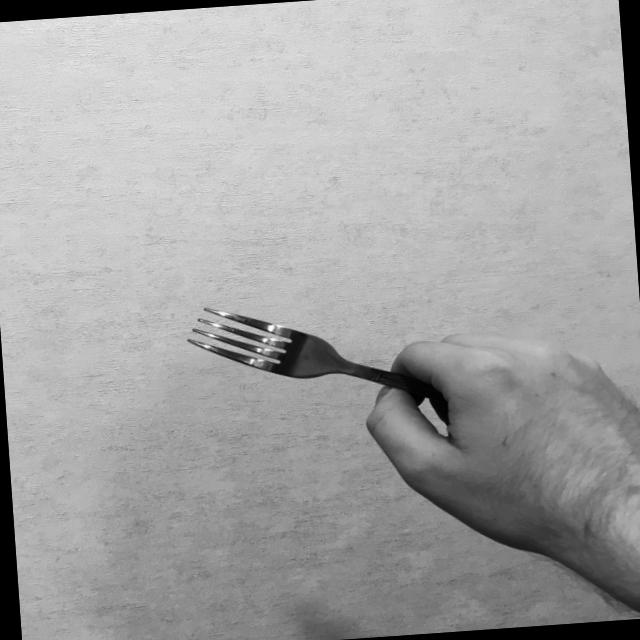fork: (182, 284, 514, 420)
